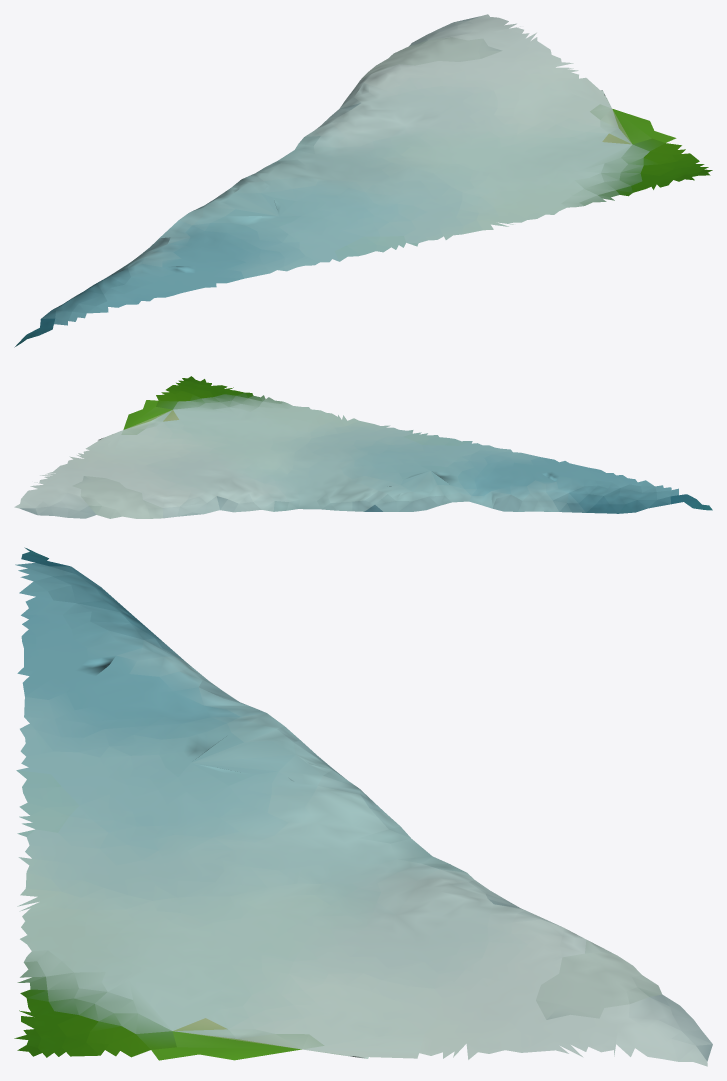
The model's file is chunk_0_0_LOD0.glb.
3 views of the same model, one above another, from view 1: azimuth 30°, elevation 25°; view 2: azimuth 150°, elevation 25°; view 3: azimuth 270°, elevation 25° (orthographic). The views are drawn at different scales.
Parts seen in each view (by area): view 1: chunk_0_0_LOD0; view 2: chunk_0_0_LOD0; view 3: chunk_0_0_LOD0.
Boxes of the visible parts, <box> form: chunk_0_0_LOD0: <box>14,14,712,347</box>; chunk_0_0_LOD0: <box>14,376,712,518</box>; chunk_0_0_LOD0: <box>14,547,712,1066</box>.
Bounding box in the file's own units: 52.87 × 1.37 × 29.96.
1 material, 1 textured.
